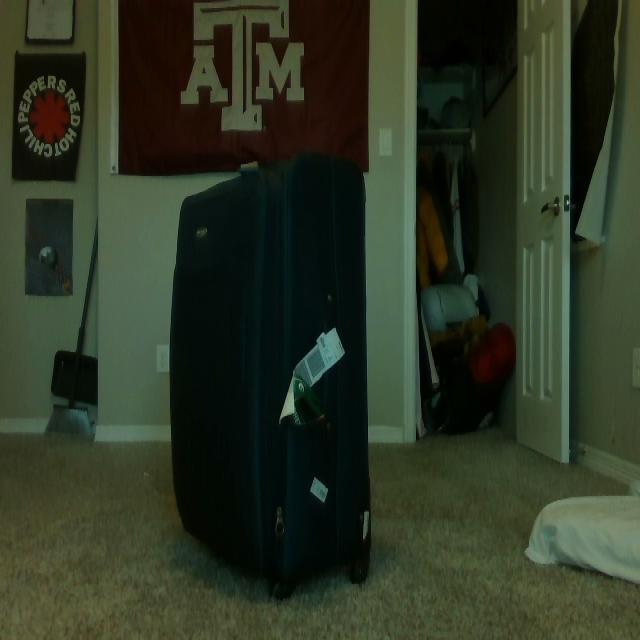suitcase: (168, 152, 375, 598)
